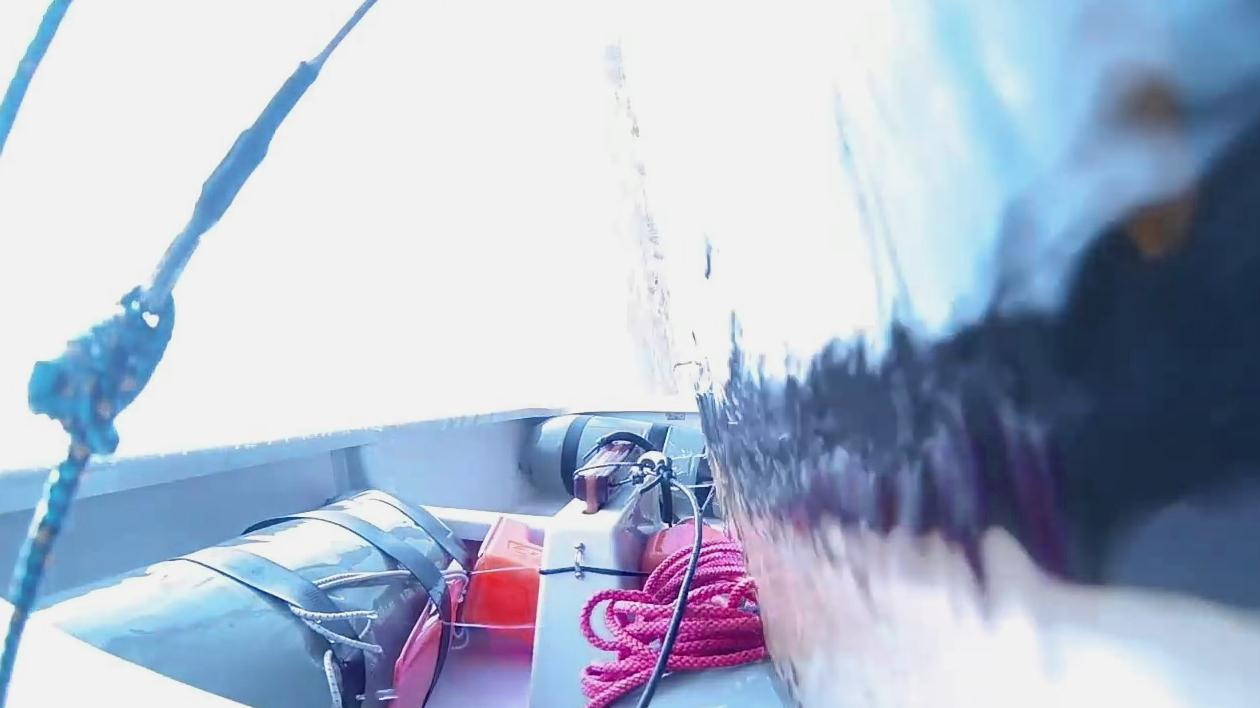boat: (0, 0, 800, 708), (627, 0, 1260, 708)
land: (608, 13, 680, 401)
sky: (0, 0, 663, 514)
